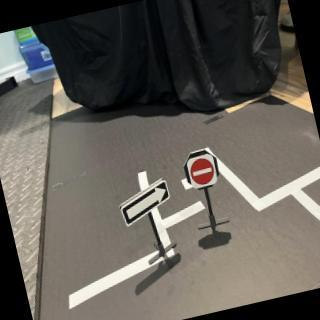sign_noentry: (185, 153, 221, 193)
sign_oneway_right: (116, 176, 177, 229)
